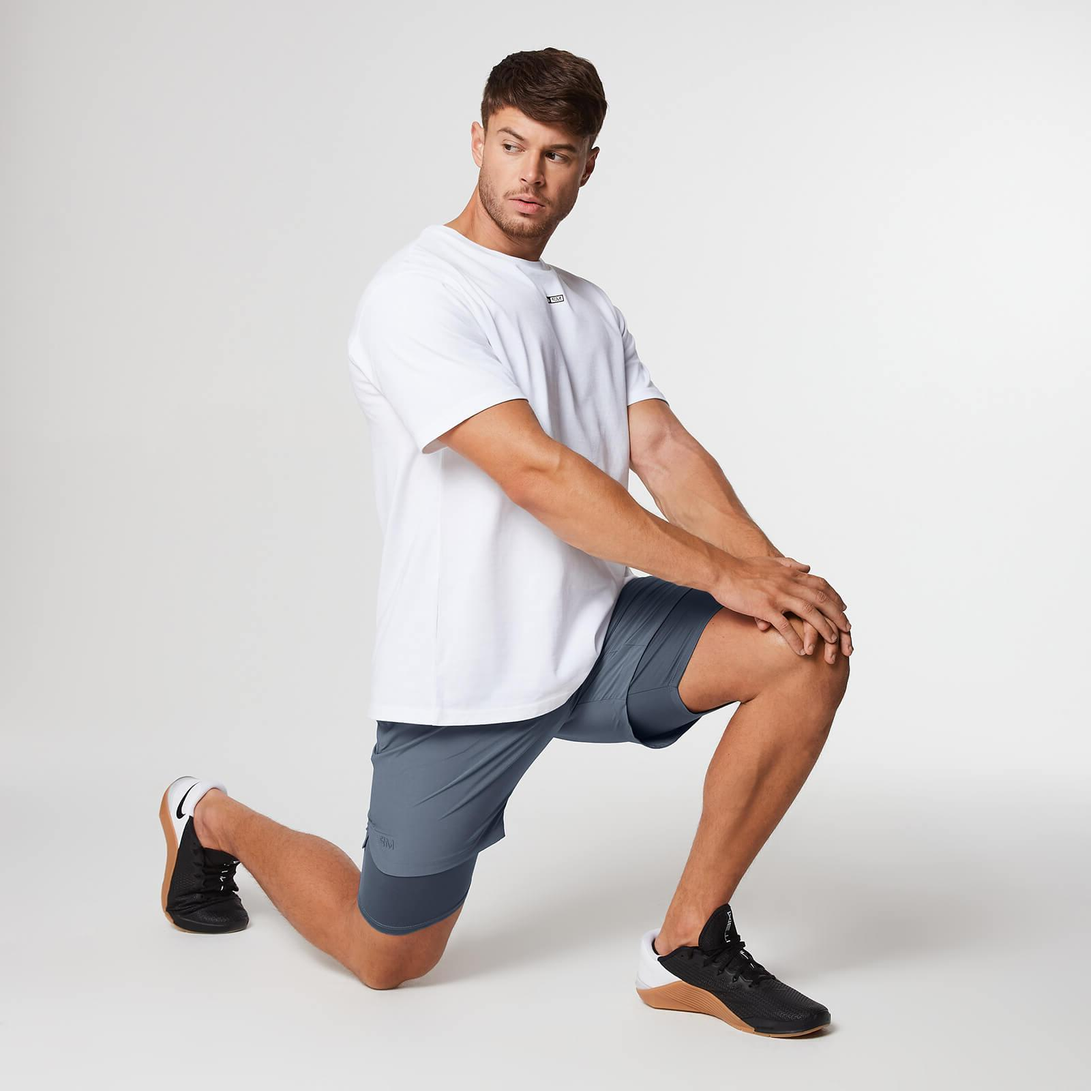Shorts: (352, 566, 735, 940)
short sleeve shirt: (342, 223, 671, 730)
